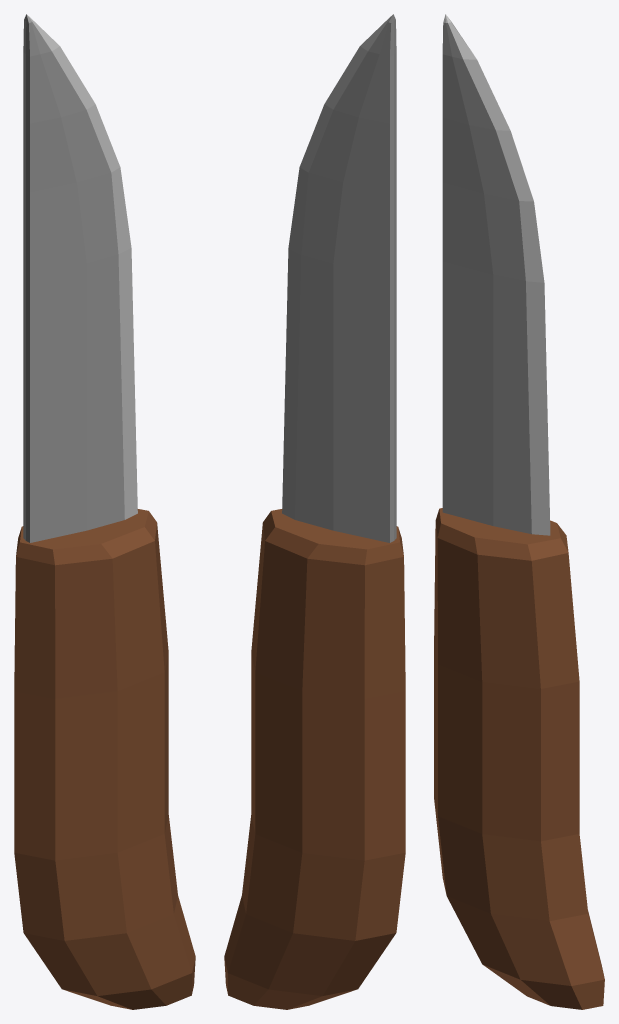
File: knife01.obj
The picture shows the model from 3 angles, left to right: view 1: azimuth 30°, elevation 25°; view 2: azimuth 150°, elevation 25°; view 3: azimuth 330°, elevation 25°; orthographic projection. The views are drawn at different scales.
Visible parts, largest first — view 1: Cylinder.001; view 2: Cylinder.001; view 3: Cylinder.001.
Boxes of the visible parts, left/top/right/bottom form: Cylinder.001: left=14, top=14, right=195, bottom=1009; Cylinder.001: left=224, top=14, right=405, bottom=1009; Cylinder.001: left=434, top=14, right=604, bottom=1009.
Size of the model in its own units: 0.0388 by 0.2067 by 0.0193.
Materials: 1 (1 with a texture image).
